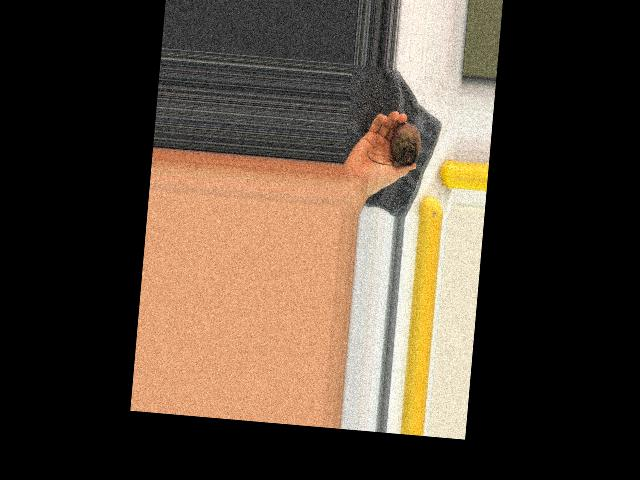beet: (366, 119, 422, 166)
